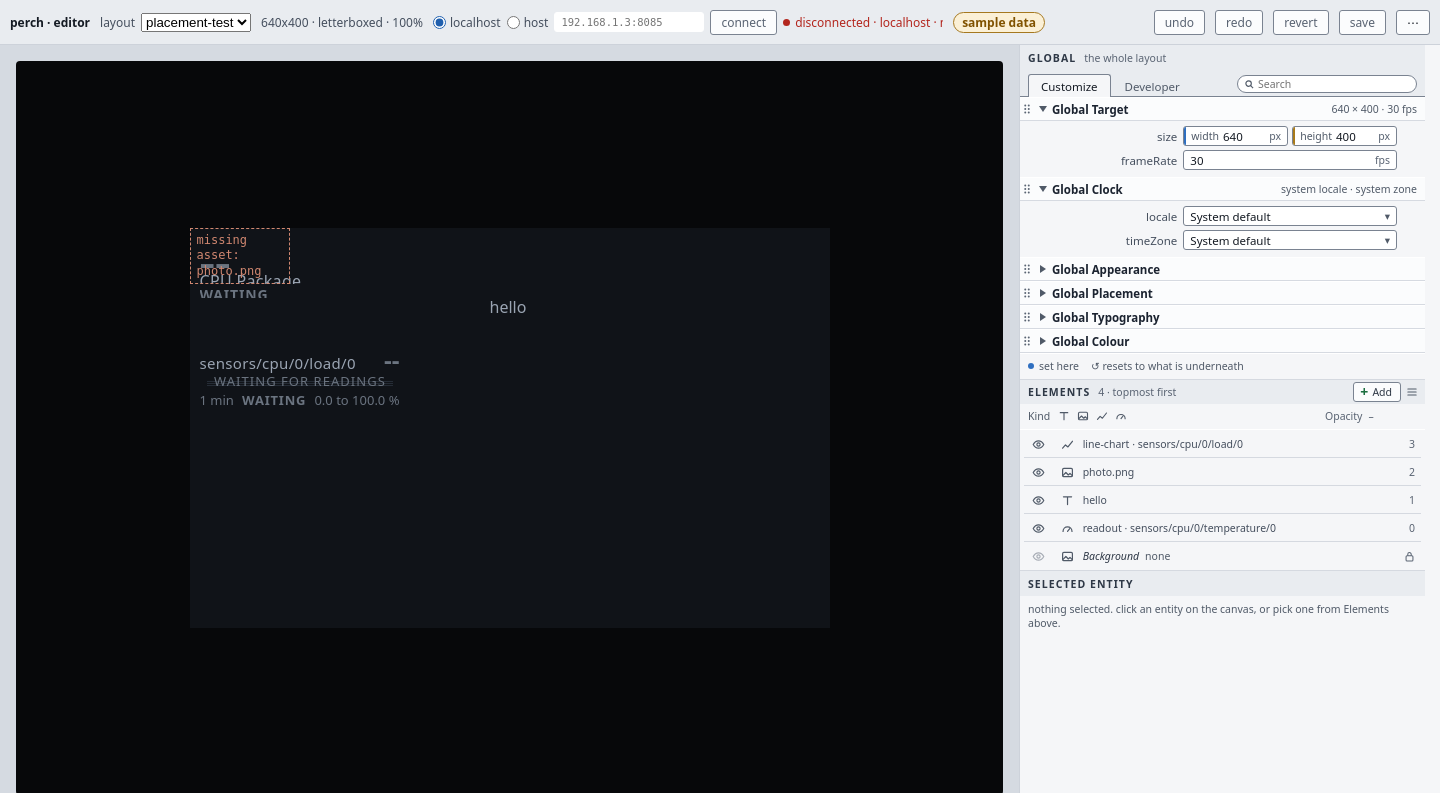
Test: the resize anchor › is in the summary too: the folded bar names the anchor point
Click the button "hello 1" at point(1067, 500), box [1052, 486, 1421, 514]
(page scrolled)
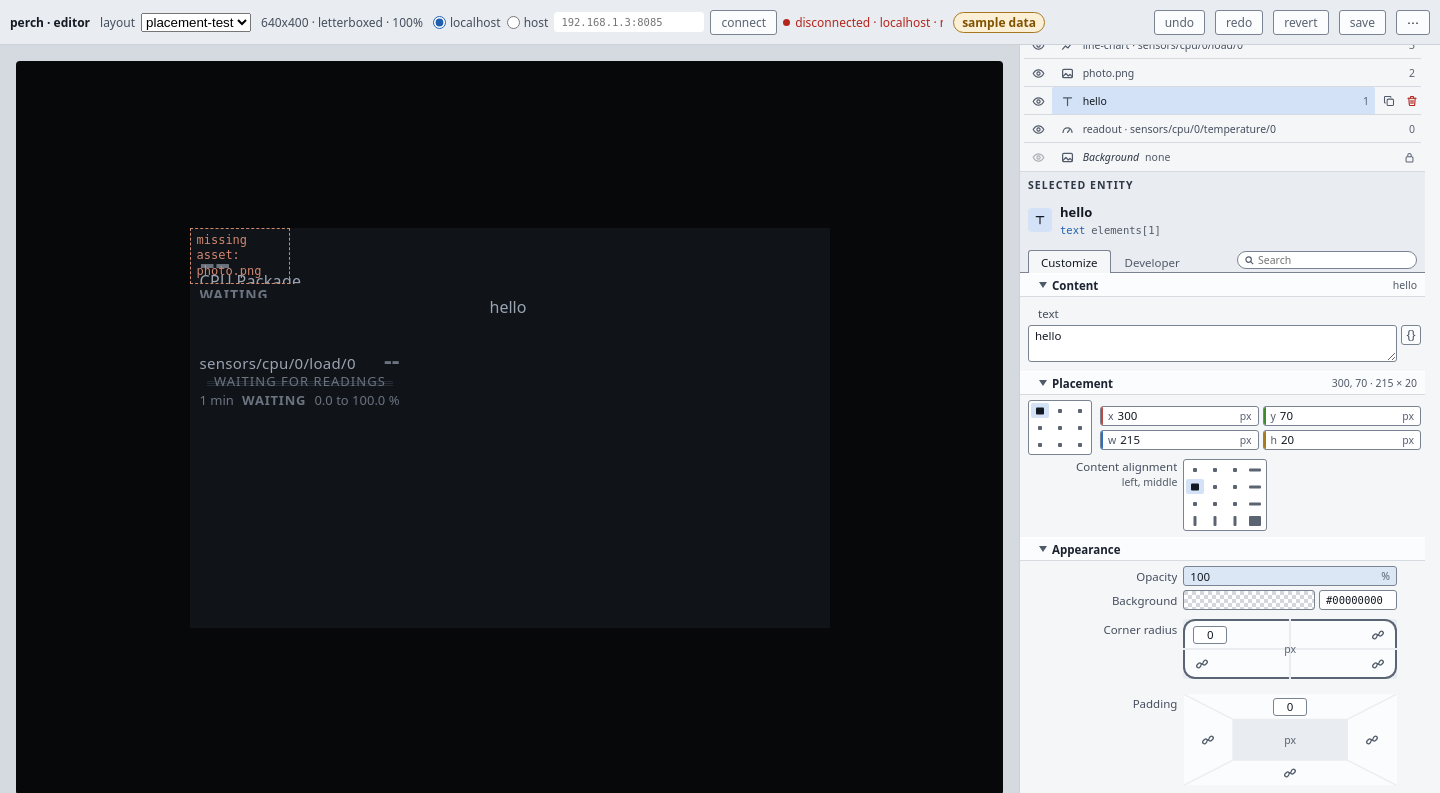
Click the 1st radio button named "middle centre" at point(1060, 428), box [1051, 420, 1069, 435]
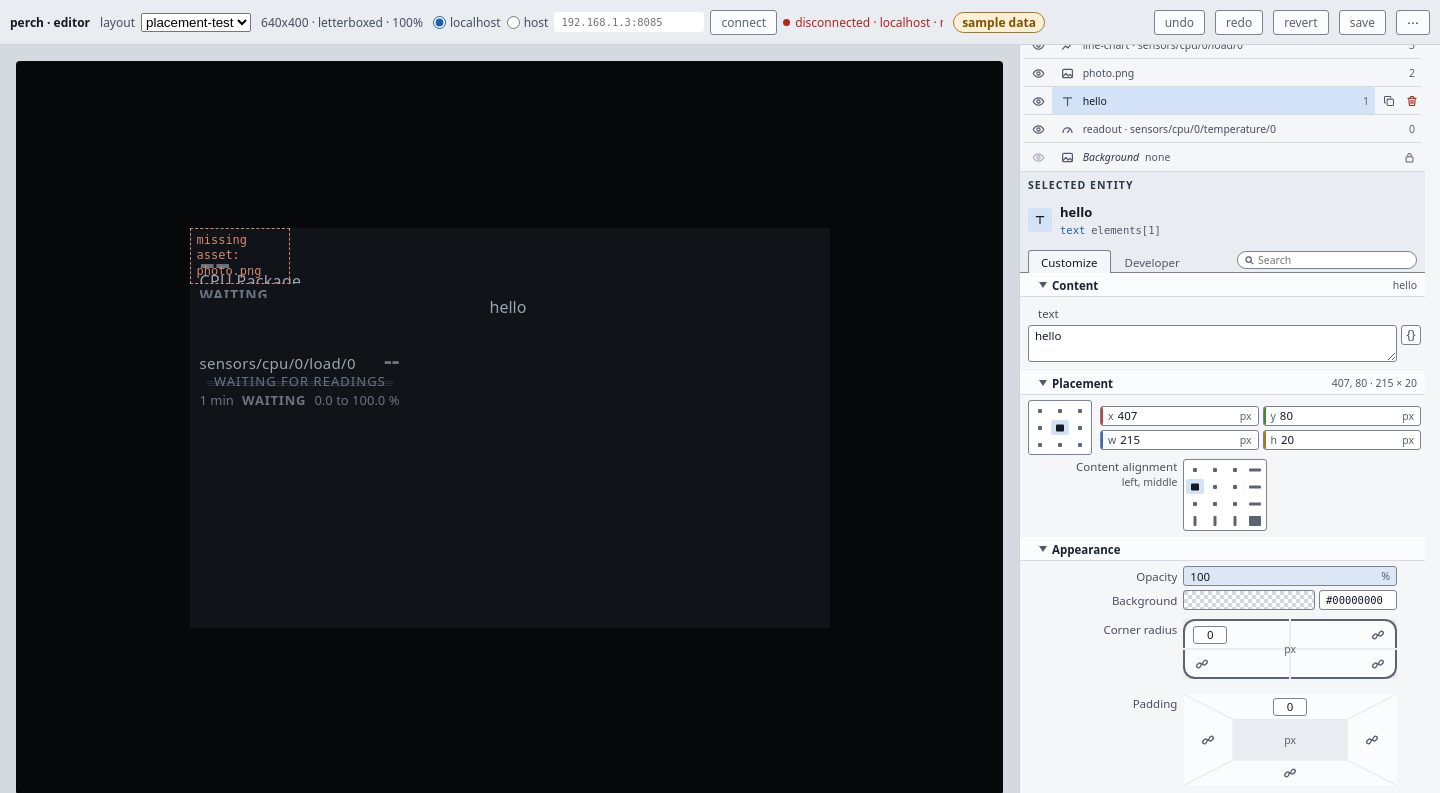
Now the text "407, 80 · 215 × 20" is shown, box [1332, 376, 1417, 390]
